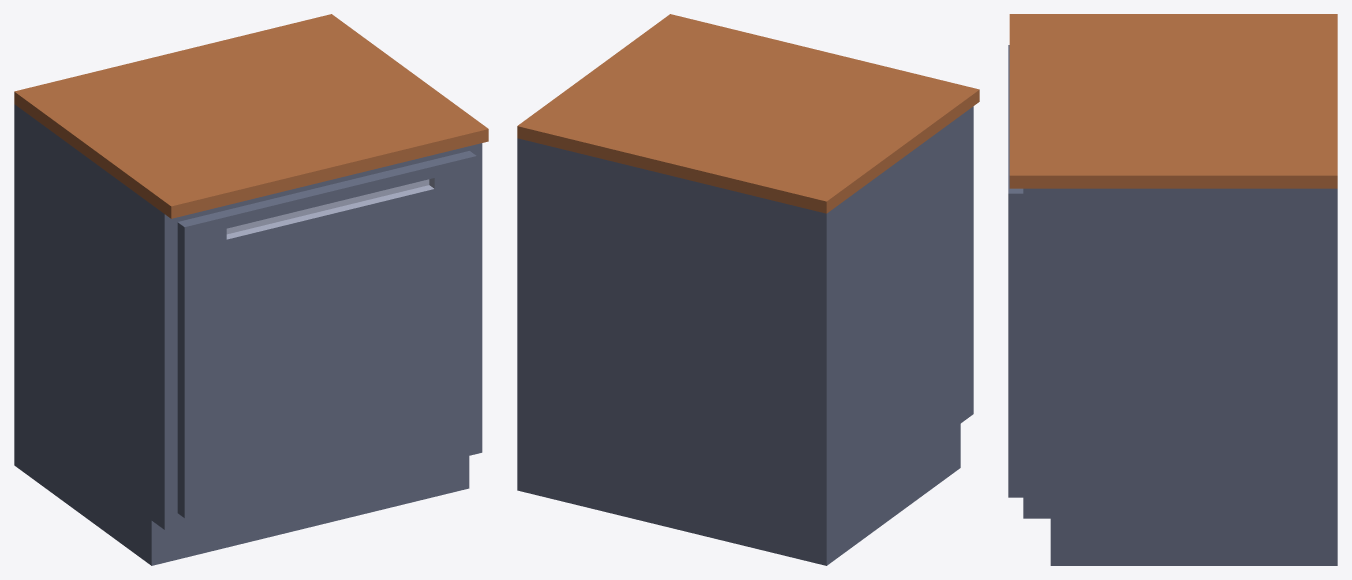
The model's file is furniture_dishWasher.fbx.
3 views of the same model, side by side, from view 1: azimuth 30°, elevation 25°; view 2: azimuth 150°, elevation 25°; view 3: azimuth 270°, elevation 25° (orthographic). The views are drawn at different scales.
Visible parts, largest first — view 1: Dish Washer Body, Dish Washer Door; view 2: Dish Washer Body; view 3: Dish Washer Body, Dish Washer Door.
Part boxes in pixels (x1,y1,x2,y2): Dish Washer Body: (14, 14, 488, 565); Dish Washer Door: (177, 151, 476, 518); Dish Washer Body: (517, 14, 979, 565); Dish Washer Body: (1009, 14, 1337, 565); Dish Washer Door: (1008, 45, 1023, 497).
Size of the model in its own units: 0.8 by 0.9 by 0.6883.
